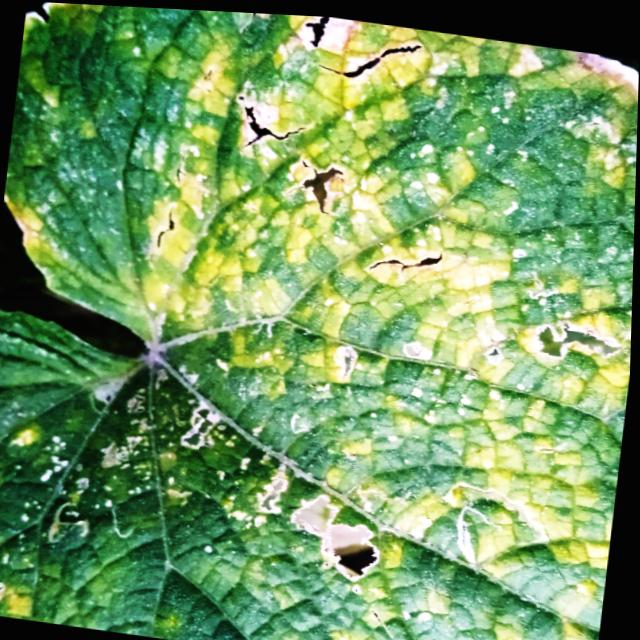Anthracnose: (220, 85, 351, 222), (284, 483, 393, 591), (528, 302, 626, 376), (295, 15, 344, 59)
